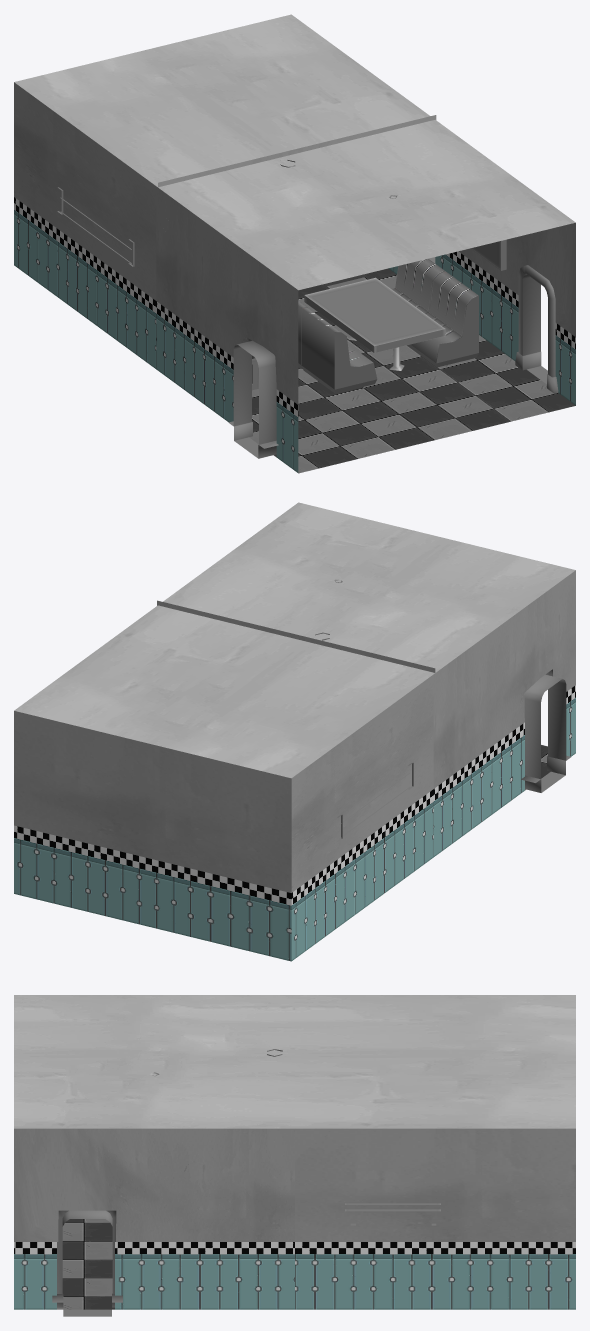
File: MHS_Cafeteria_L2_R1_optimized.fbx
3 renders of one model, top to bottom at view 1: azimuth 30°, elevation 25°; view 2: azimuth 150°, elevation 25°; view 3: azimuth 270°, elevation 25°, orthographic.
Visible parts, largest first — view 1: lightmap1, lightmap-1; view 2: lightmap1, lightmap-1; view 3: lightmap1, lightmap-1.
Part boxes in pixels (x1,y1,x2,y2): lightmap1: [14, 14, 575, 473]; lightmap-1: [233, 274, 547, 458]; lightmap1: [14, 502, 575, 961]; lightmap-1: [524, 674, 566, 792]; lightmap1: [14, 995, 575, 1309]; lightmap-1: [62, 1210, 112, 1316].
Bounding box in the file's own units: 10.3 × 6.02 × 16.51.
